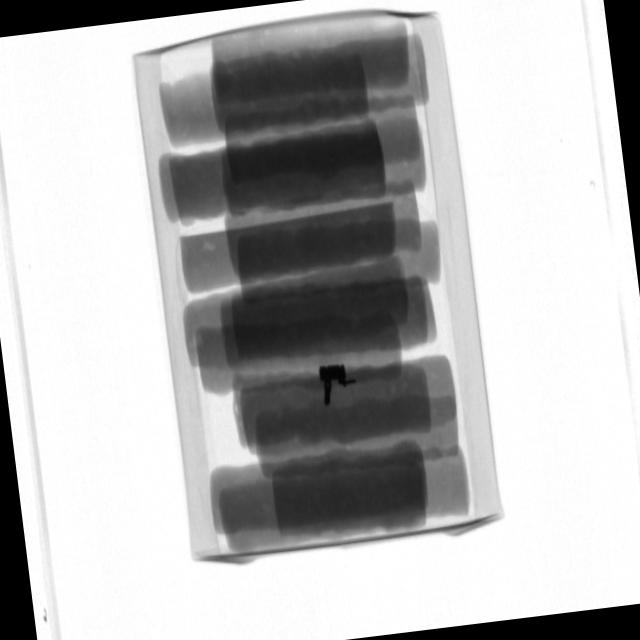ym: (318, 361, 359, 406)
